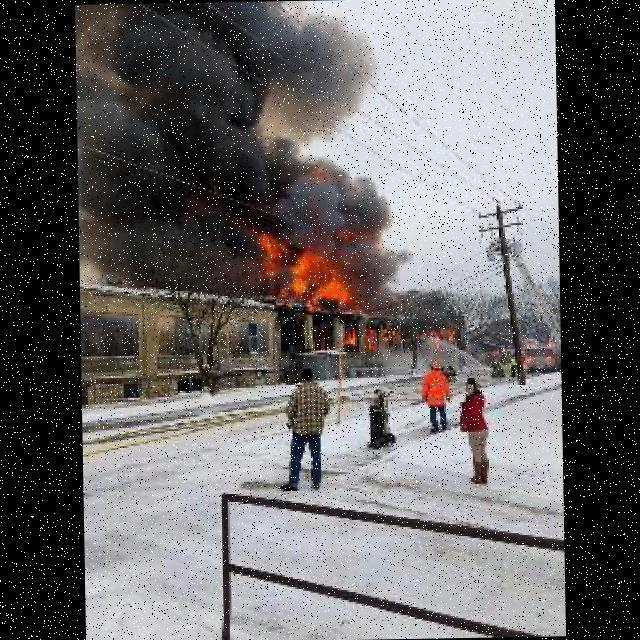Fire: (263, 231, 356, 309), (345, 328, 359, 344), (383, 329, 397, 343), (428, 328, 444, 338)
Smoke: (257, 3, 405, 231), (355, 231, 416, 316)
